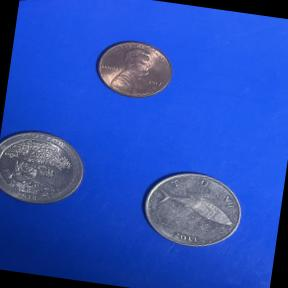Croatia-2Kune-B: (131, 162, 254, 258)
US-1cent-B: (83, 30, 180, 109)
US-25cent-B: (0, 121, 96, 217)
